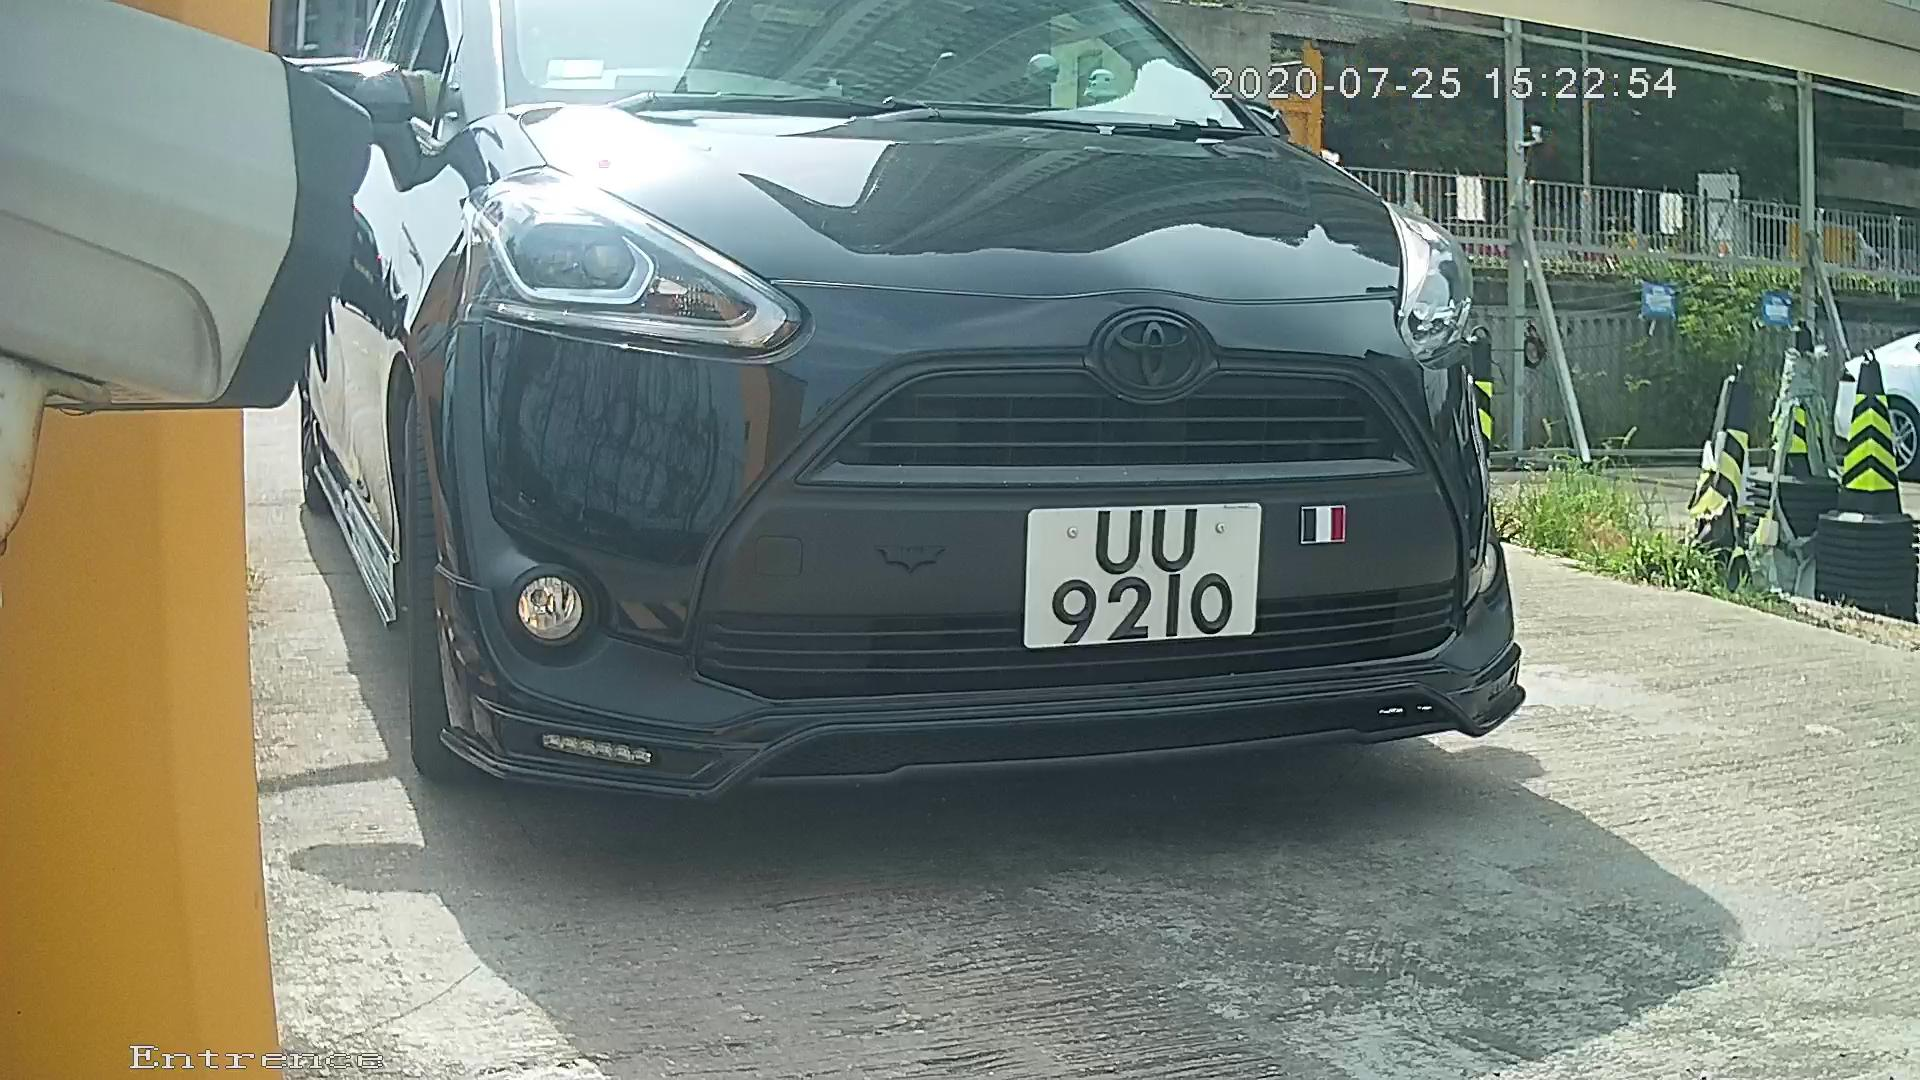Car: (181, 1, 1655, 888)
License Plate: (1003, 478, 1295, 680)
